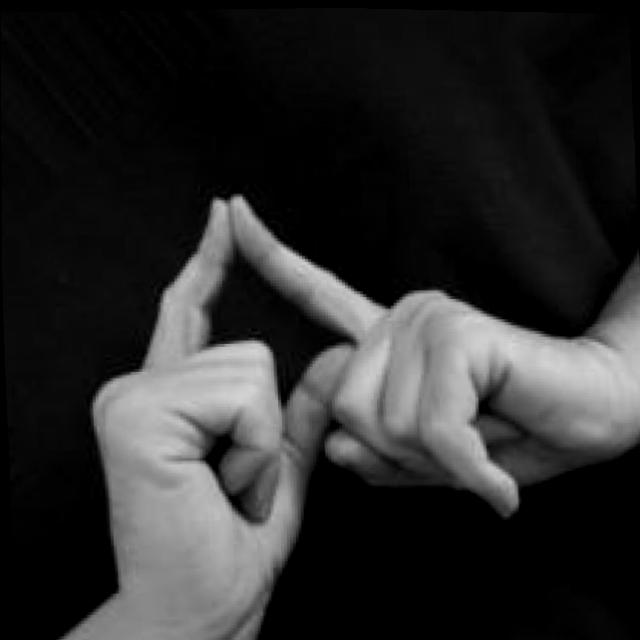D: (77, 170, 640, 640)
